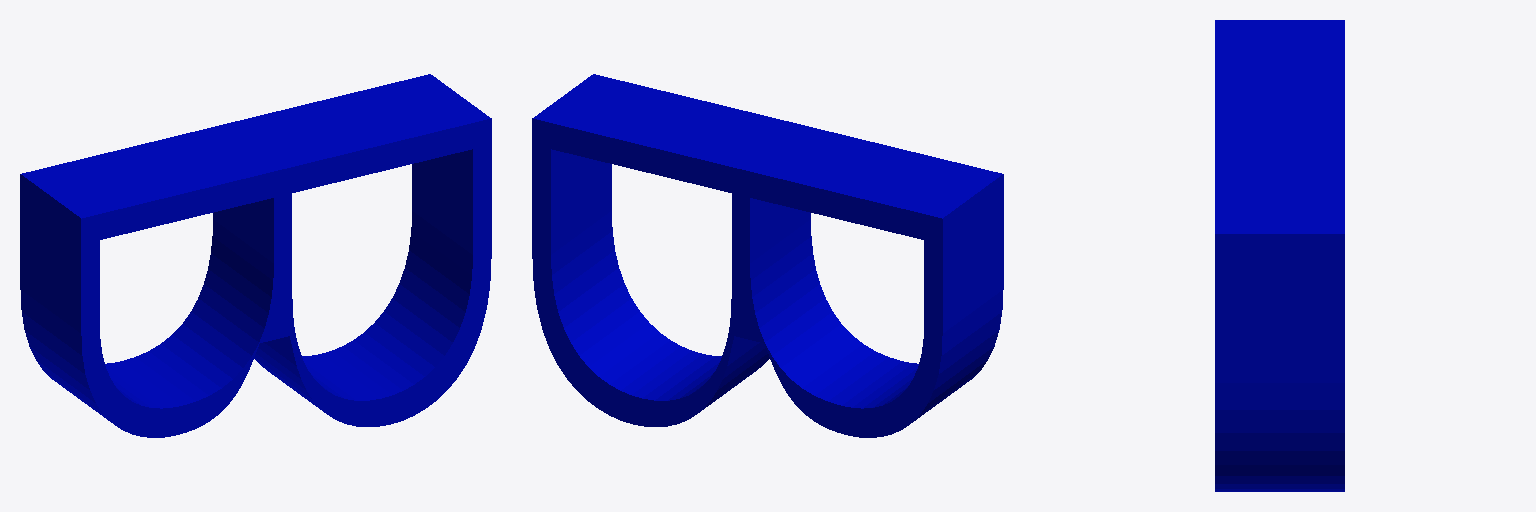
robot.urdf — ring:
<?xml version="0.0" ?>
<robot name="ring">
    <material name="blue">
        <color rgba="0.006995 0.054480 0.799103 1"/>
    </material>

    <link name="baseLink">
        <!-- from lego/lego.urdf -->
        <contact>
            <lateral_friction value="1.0"/>
            <rolling_friction value="0.0"/>
            <contact_cfm value="0.0"/>
            <contact_erp value="1.0"/>
        </contact>
        <inertial>
            <origin rpy="0 0 0" xyz="0 0 0"/>
            <mass value="0.5"/>
            <inertia ixx="1" ixy="0" ixz="0" iyy="1" iyz="0" izz="1"/>
        </inertial>
        <visual>
            <origin rpy="0 0 0" xyz="0 0 0"/>
            <geometry>
                <!--        radius: 10mm, depth: 14.5mm-->
                <mesh filename="meshes/b.obj" scale="1 1 1"/>
                <!--        <box size="0.002 0.002 0.002"/>-->
            </geometry>
            <material name="blue"/>
        </visual>
        <collision>
            <origin rpy="0 0 0" xyz="0 0 0"/>
            <geometry>
                <mesh filename="meshes/b_vhacd.obj" scale="1 1 1"/>
                       <!-- <box size="0.002 0.002 0.002"/> -->
            </geometry>
        </collision>
    </link>

</robot>

--- What the picture shows (computed from the rendered views, not written in the file) ---
3 views of the same robot in one strip: view 1: azimuth 30°, elevation 25°; view 2: azimuth 150°, elevation 25°; view 3: azimuth 270°, elevation 25° (orthographic).
Model ring with 1 links and 0 joints (none), rooted at baseLink, posed all joints at 0.
Links seen in each view (by area): view 1: baseLink; view 2: baseLink; view 3: baseLink.
Boxes of the visible links, box(x1,y1,x2,y2) form: baseLink: box(20, 74, 491, 437); baseLink: box(532, 74, 1003, 437); baseLink: box(1215, 20, 1344, 491).
Bounding box of the posed robot: 2.49 × 0.64 × 1.63 m (x, y, z).
Meshes: 1 distinct files referenced, 1 mesh visuals loaded (1 OBJ).